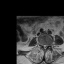CCS_normal: (44, 43, 45, 50)
LFS_severe_stenosis: (47, 43, 49, 48)
LLS_normal: (46, 43, 47, 49)
RFS_stenosis: (41, 43, 43, 47)
RLS_normal: (43, 43, 44, 49)
